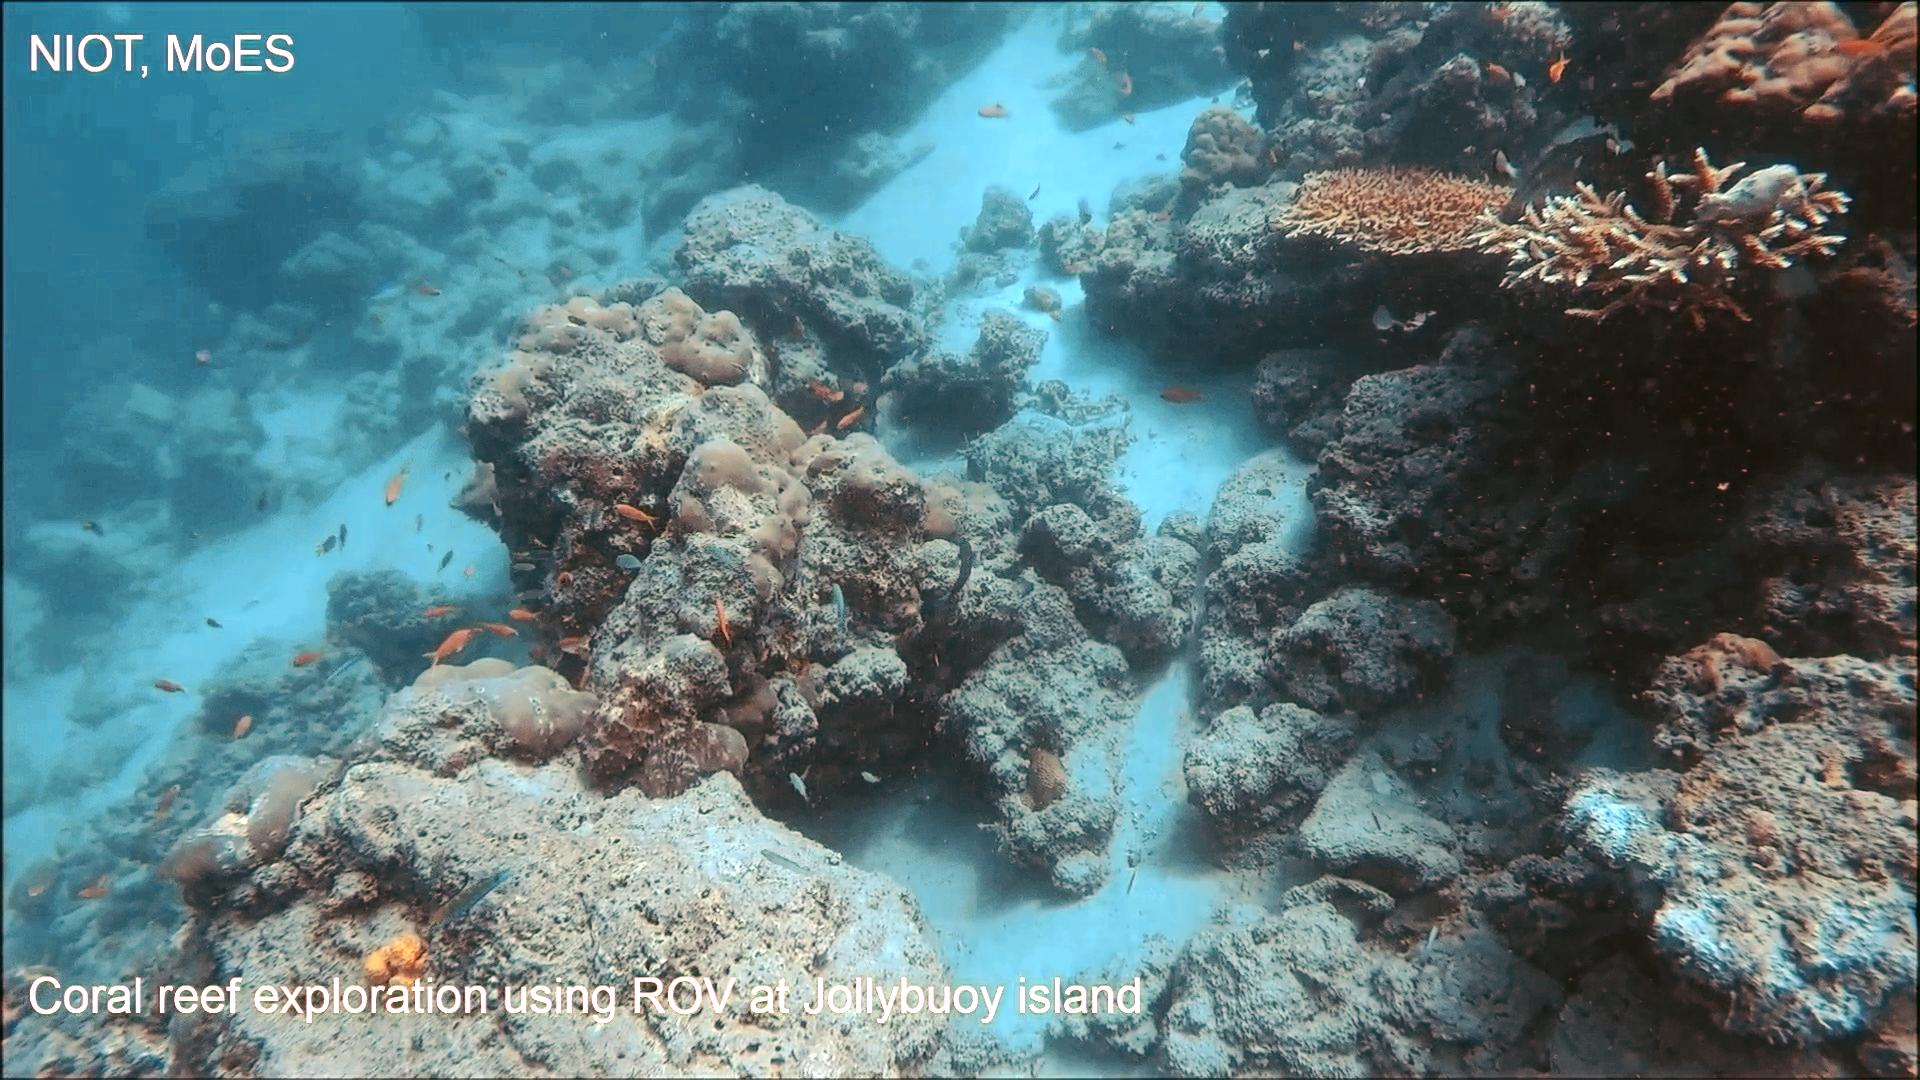Porites-Porites pukoensis: (620, 281, 844, 607)
